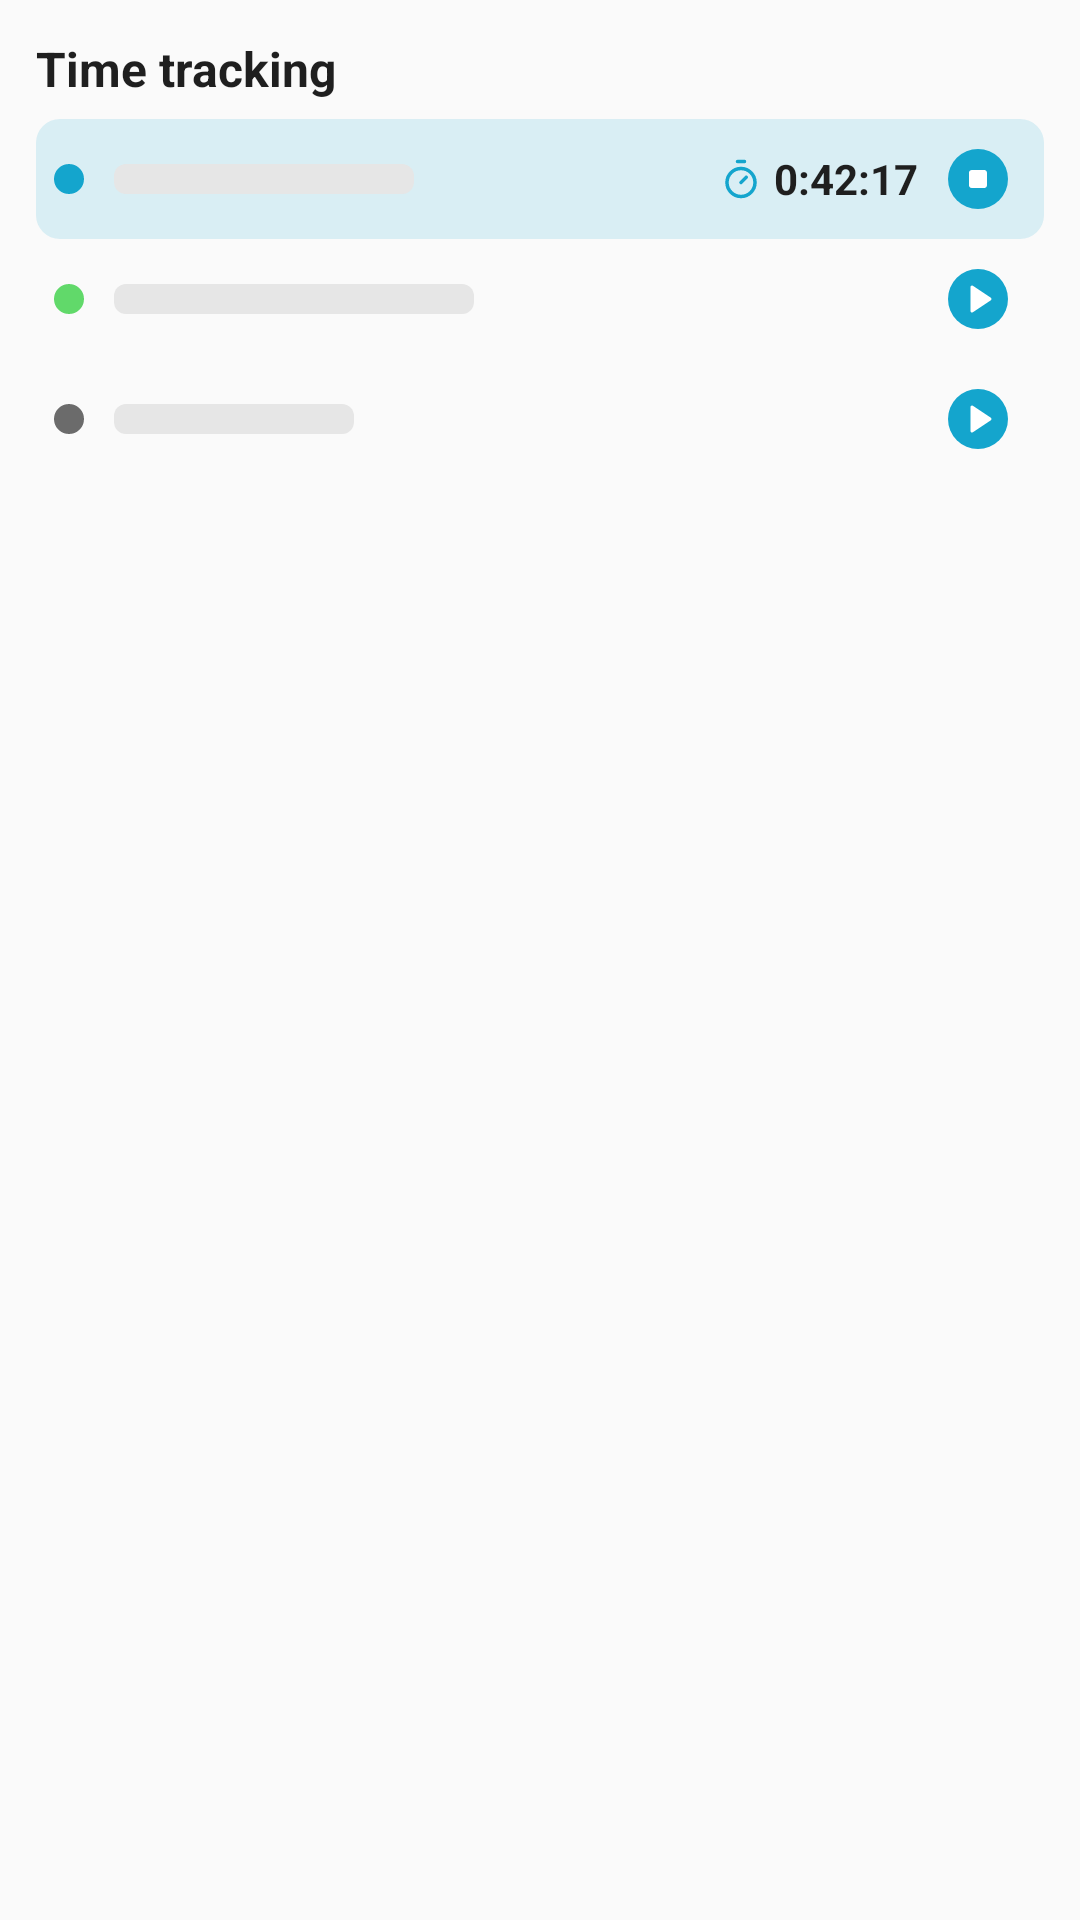

Where to tap for icons on this 1080 × 1920 app screen, as [x,y]:
widget play: [978,299], [978,419]
widget stop: [978,179]
widget timer: [741,179]
